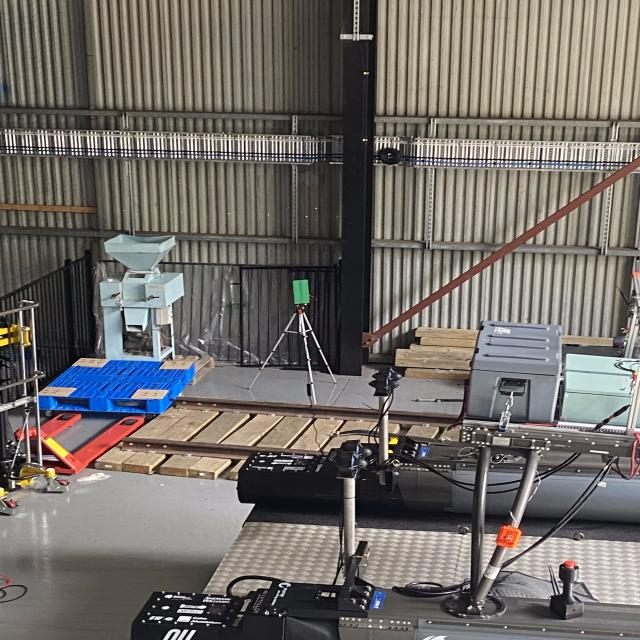matrix: (288, 274, 311, 308)
